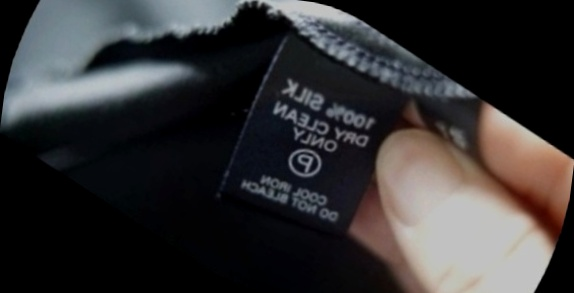dry_clean_any_solvent_except_trichloroethylene: (273, 131, 335, 192)
